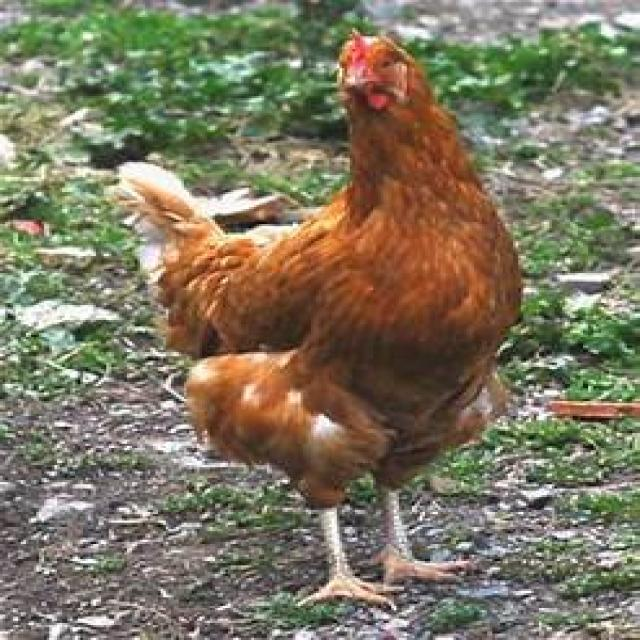hen: (117, 35, 521, 606)
